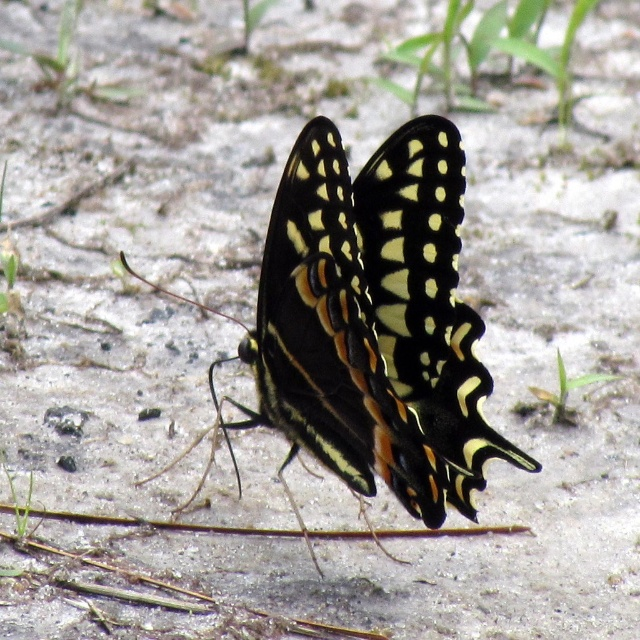Butterfly: (120, 117, 525, 537)
